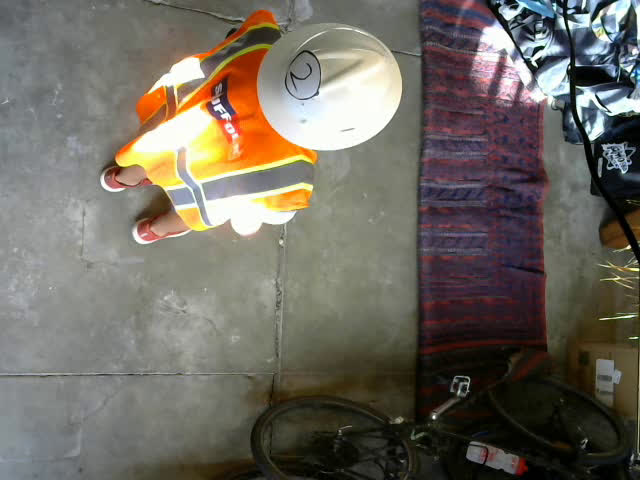two: (284, 49, 321, 100)
